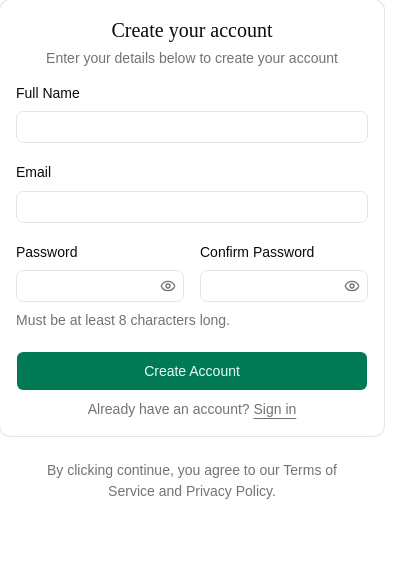
SignUpForm › maps a 400 { message, errors } response onto the matching form fields
The width and height of the screenshot is (402, 572).
Type "Ada Lovelace" into the field labelled "Full Name".
click(192, 127); type("Ada Lovelace")  # box x1=16 y1=111 x2=368 y2=143
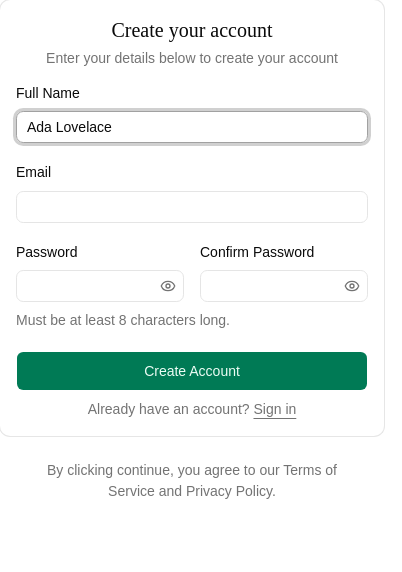
Type "ada@example.com" into the field labelled "Email".
click(192, 206); type("ada@example.com")  # box x1=16 y1=190 x2=368 y2=222
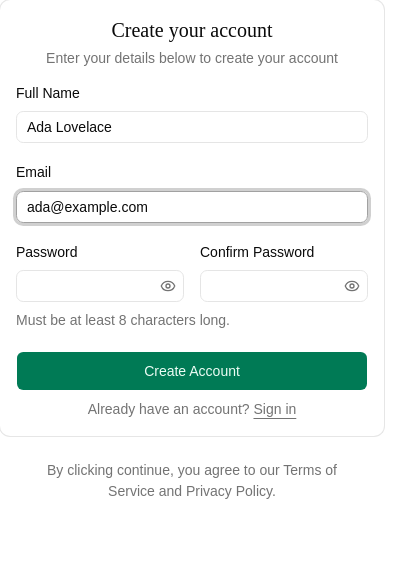
Type "password1" into the password field labelled "Password".
click(100, 286); type("password1")  # box x1=16 y1=270 x2=184 y2=302
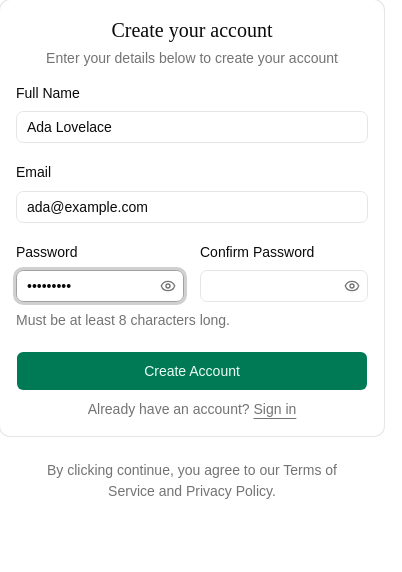
Type "password1" into the password field labelled "Confirm Password".
click(284, 286); type("password1")  # box x1=200 y1=270 x2=368 y2=302
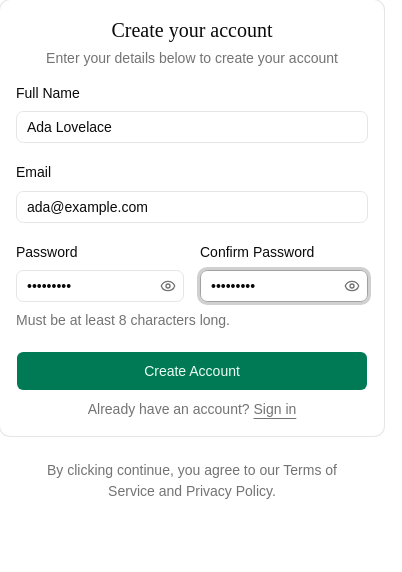
Click the button "Create Account".
click(192, 371)  # box x1=16 y1=351 x2=368 y2=391
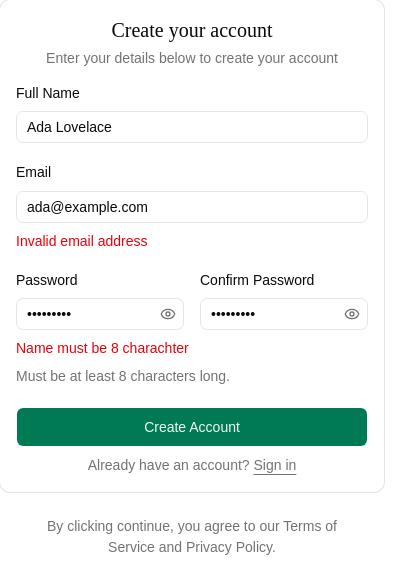
Now the text "Invalid email address" is shown, box x1=16 y1=232 x2=148 y2=248
Now the text "Name must be 8 charachter" is shown, box x1=16 y1=340 x2=189 y2=356
